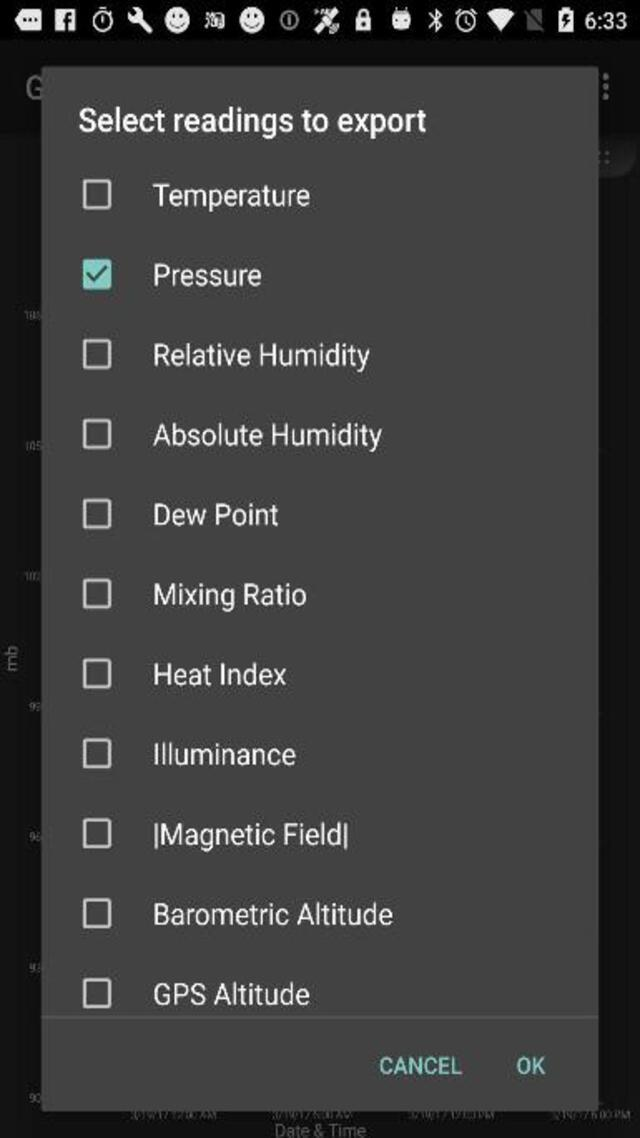CheckedTextView: (82, 418, 380, 452), (82, 337, 370, 371), (83, 899, 392, 929), (82, 817, 346, 851), (82, 178, 310, 212), (83, 577, 306, 611), (83, 977, 309, 1007), (82, 737, 294, 767), (83, 659, 286, 689), (81, 499, 278, 529), (81, 259, 261, 289)
Text: (79, 106, 426, 138), (154, 422, 382, 452), (156, 343, 370, 372), (156, 820, 347, 850), (154, 902, 390, 926), (154, 583, 305, 612), (153, 184, 309, 212), (154, 982, 308, 1006), (154, 742, 294, 766), (156, 662, 286, 686), (154, 502, 278, 526), (155, 264, 261, 284), (380, 1057, 461, 1073), (517, 1056, 544, 1074)
